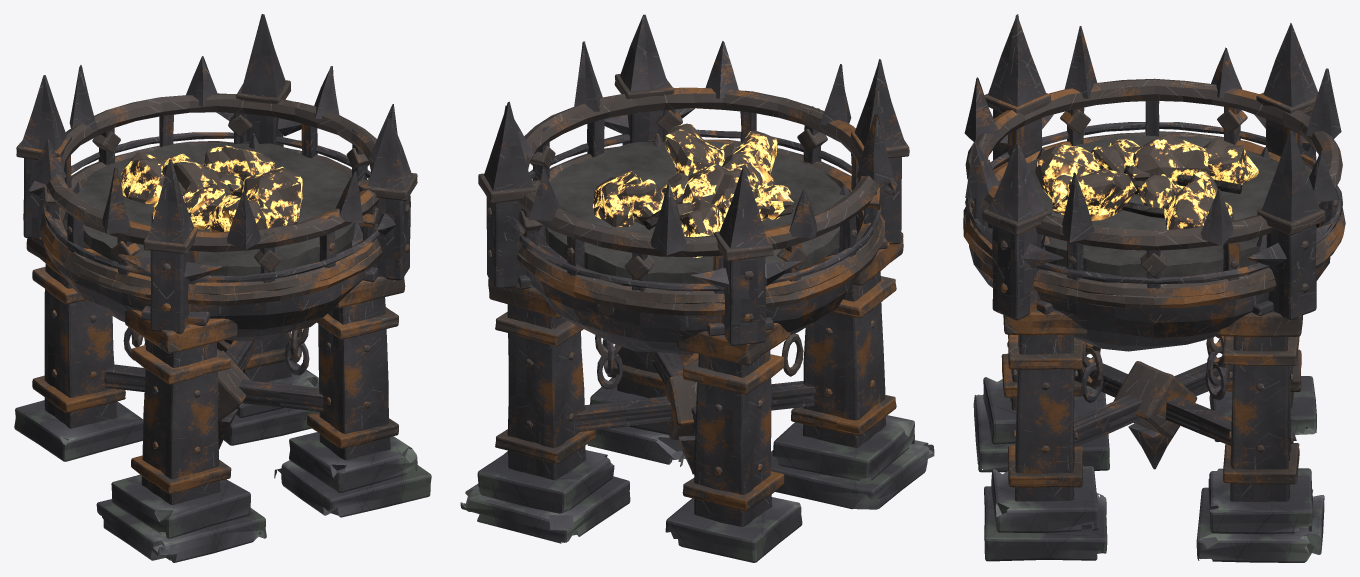
File: SM_Cripta_Braseiro.glb
The picture shows the model from 3 angles, left to right: view 1: azimuth 30°, elevation 25°; view 2: azimuth 150°, elevation 25°; view 3: azimuth 270°, elevation 25°; orthographic projection. The views are drawn at different scales.
Visible parts, largest first — view 1: SM_Cripta_Braseiro; view 2: SM_Cripta_Braseiro; view 3: SM_Cripta_Braseiro.
Part boxes in pixels (x1,y1,x2,y2): SM_Cripta_Braseiro: (14, 14, 431, 562); SM_Cripta_Braseiro: (460, 14, 934, 562); SM_Cripta_Braseiro: (963, 14, 1345, 562).
Bounding box in the file's own units: 1.46 × 1.76 × 1.46.
6 materials, 6 textured.
